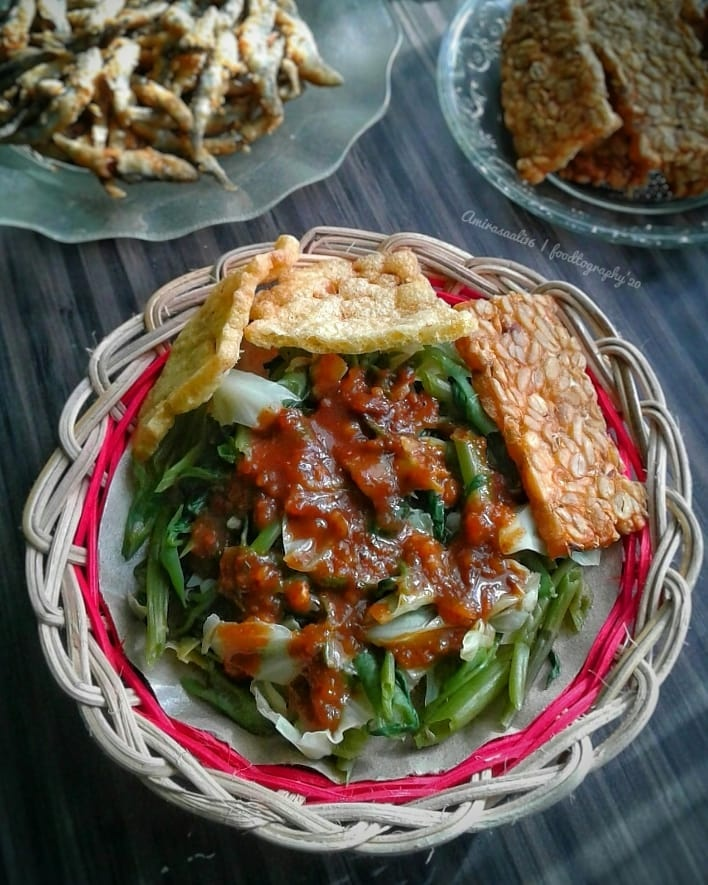pecel: (98, 313, 602, 798)
